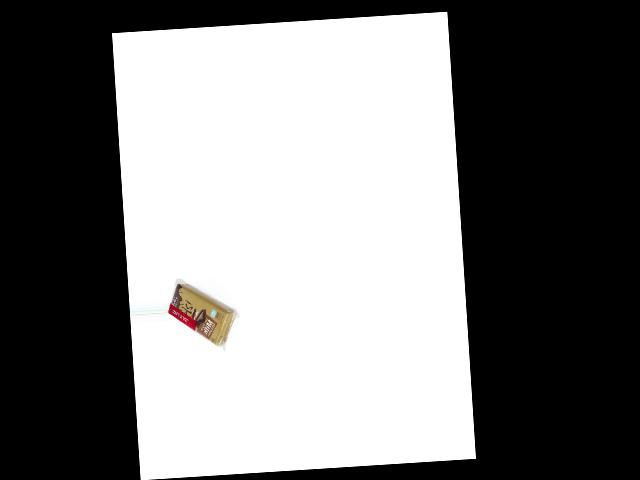chocolate: (167, 279, 238, 357)
